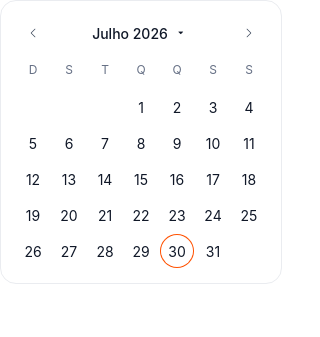
Test: Calendar › navigates to the next and previous month
This screenshot has width=320, height=337.
Click the button named "Próximo mês" at point(249, 33), box [233,17,265,49]
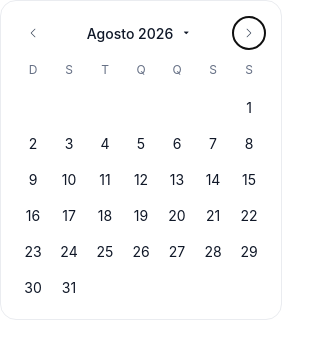
Result: the button "Agosto 2026" is shown at [87,22,195,44]
Click the button named "Mês anterior" at point(33, 33), box [17,17,49,49]
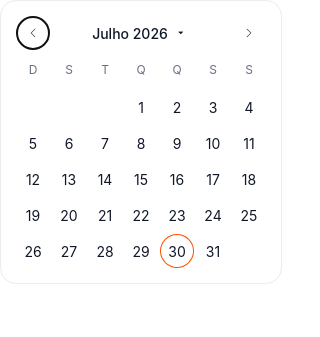
Click the button named "Mês anterior" at point(33, 33), box [17,17,49,49]
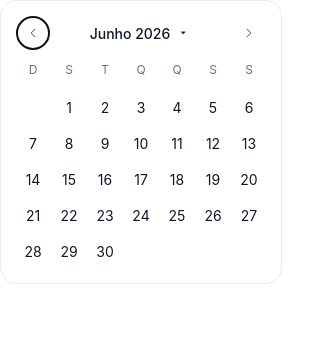
Result: the button "Junho 2026" is shown at [90,22,192,44]
